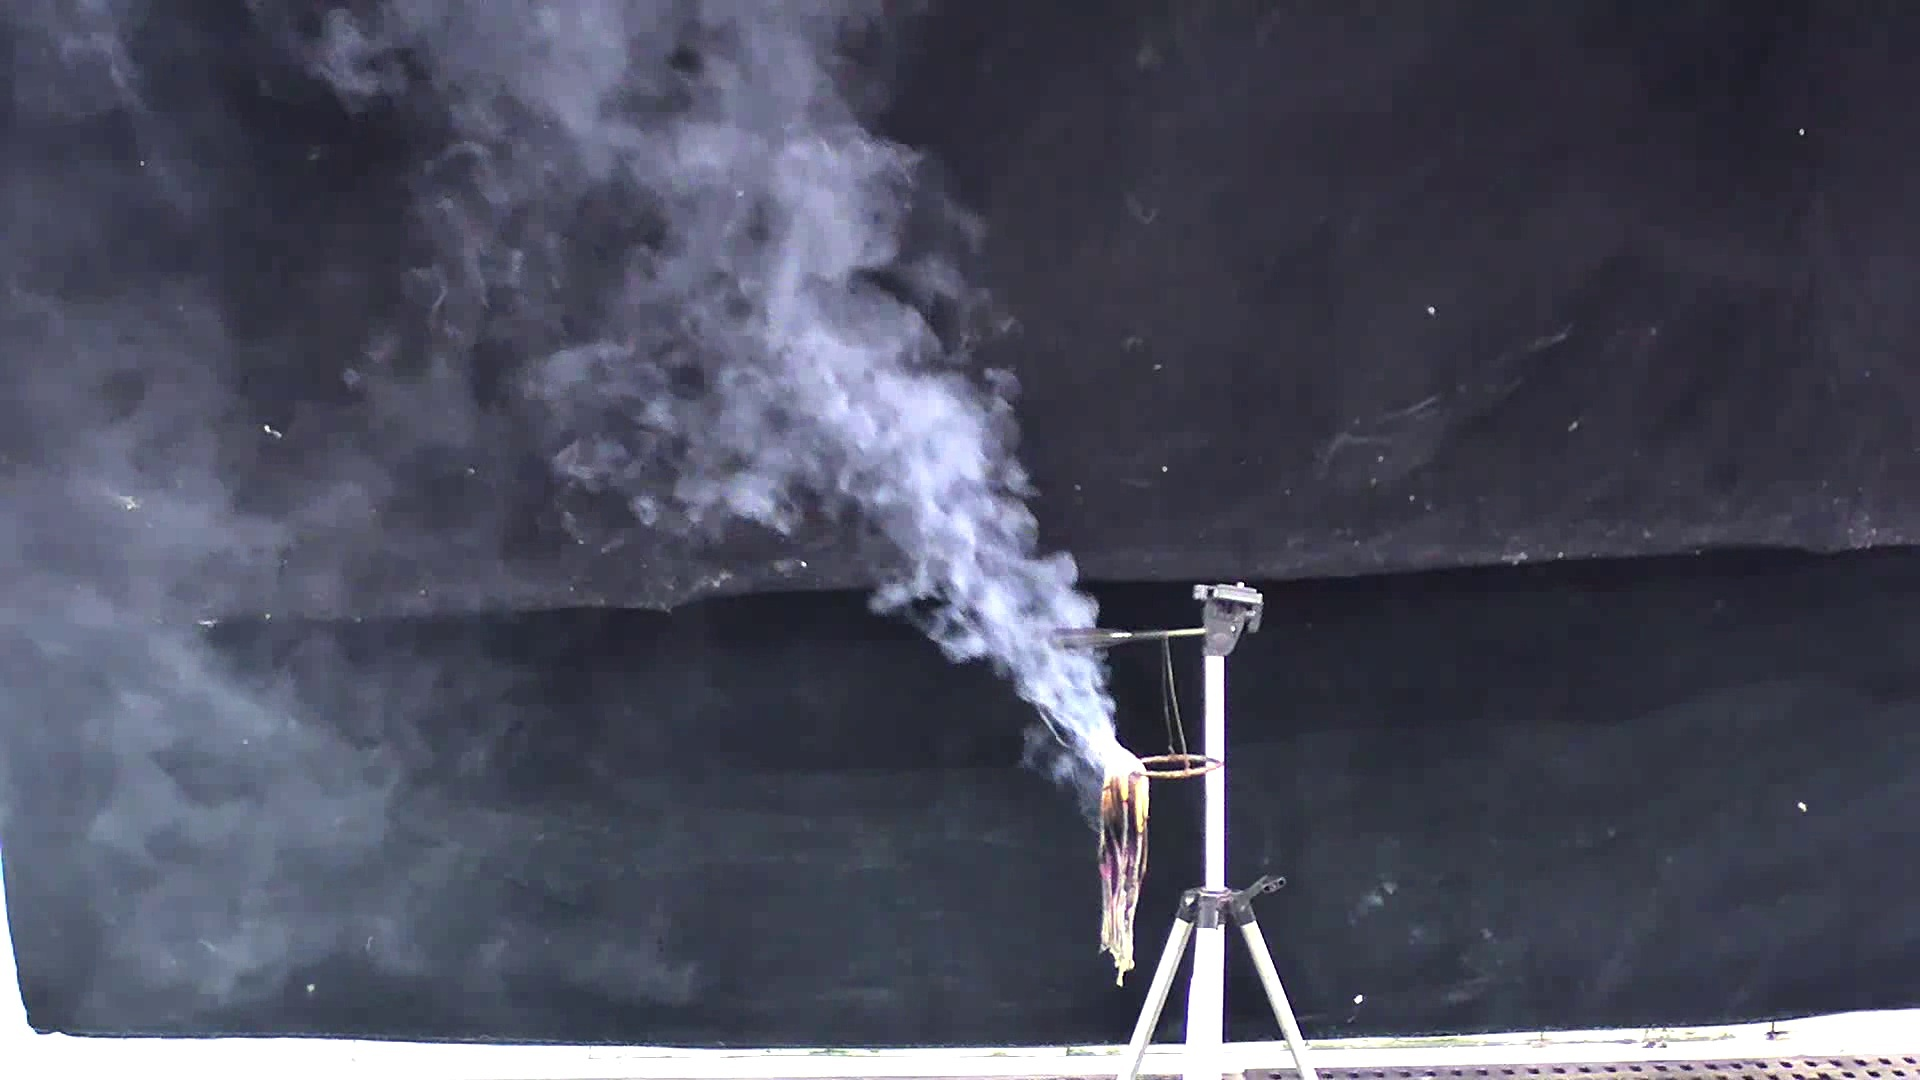smoke: (334, 1, 1158, 814)
